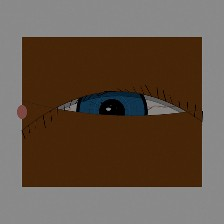pinguecula_lesion: (26, 93, 59, 119)
